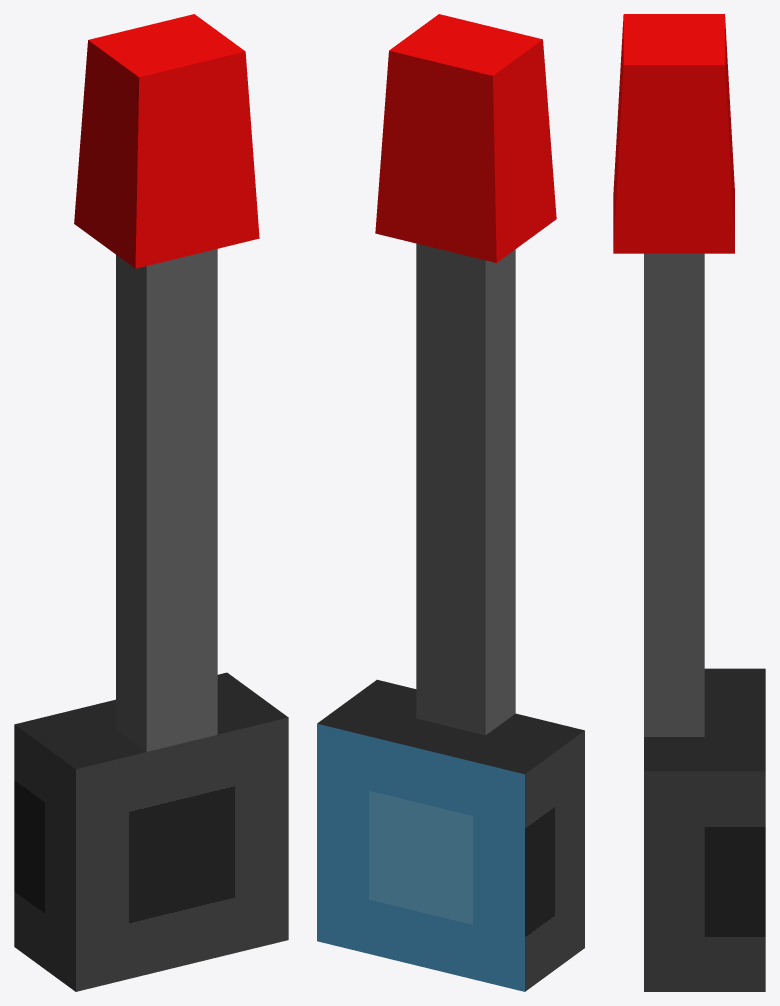
The model's file is antenna.dae.
The picture shows the model from 3 angles, left to right: view 1: azimuth 30°, elevation 25°; view 2: azimuth 150°, elevation 25°; view 3: azimuth 270°, elevation 25°; orthographic projection. The views are drawn at different scales.
Parts seen in each view (by area): view 1: cuboid; view 2: cuboid; view 3: cuboid.
Part boxes in pixels (x1=…): cuboid: x1=14, y1=14, x2=288, y2=991; cuboid: x1=317, y1=14, x2=584, y2=991; cuboid: x1=613, y1=14, x2=765, y2=991.
Bounding box in the file's own units: 0.25 × 1.02 × 0.1562.
1 material, 1 textured.
